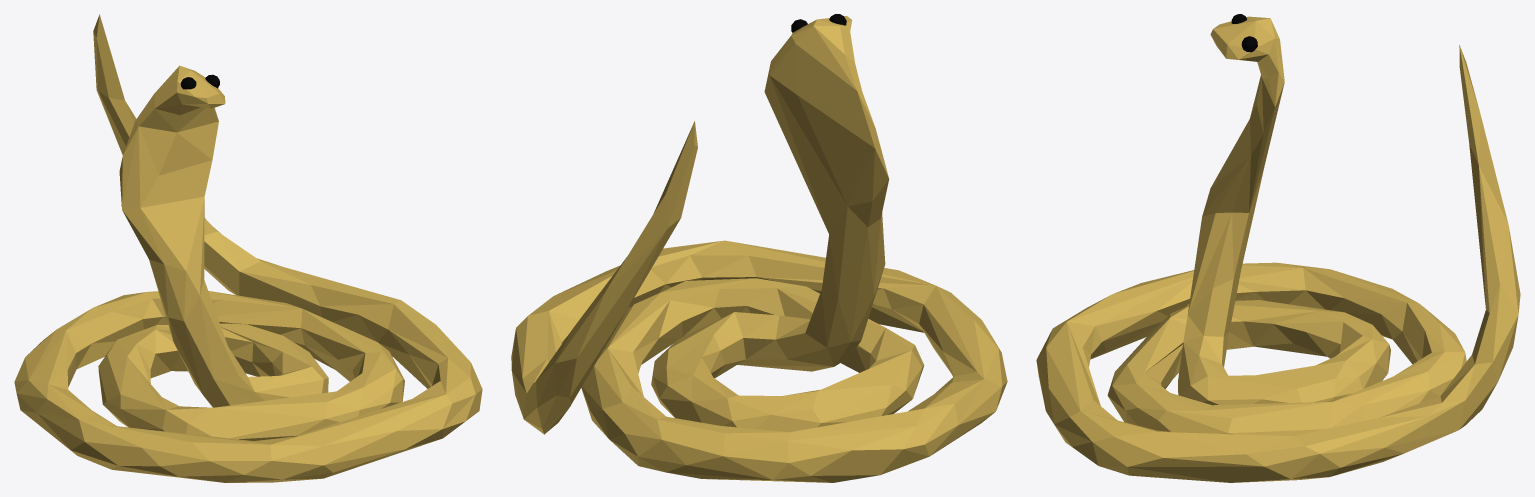
Rendered from Cobra.fbx.
The picture shows the model from 3 angles, left to right: view 1: azimuth 30°, elevation 25°; view 2: azimuth 150°, elevation 25°; view 3: azimuth 270°, elevation 25°; orthographic projection. The views are drawn at different scales.
Parts seen in each view (by area): view 1: Cobra; view 2: Cobra; view 3: Cobra.
Boxes of the visible parts, x1,y1,x2,y2 form: Cobra: [14, 14, 482, 482]; Cobra: [511, 16, 1007, 482]; Cobra: [1036, 16, 1520, 482].
Bounding box in the file's own units: 322 × 278 × 345.
